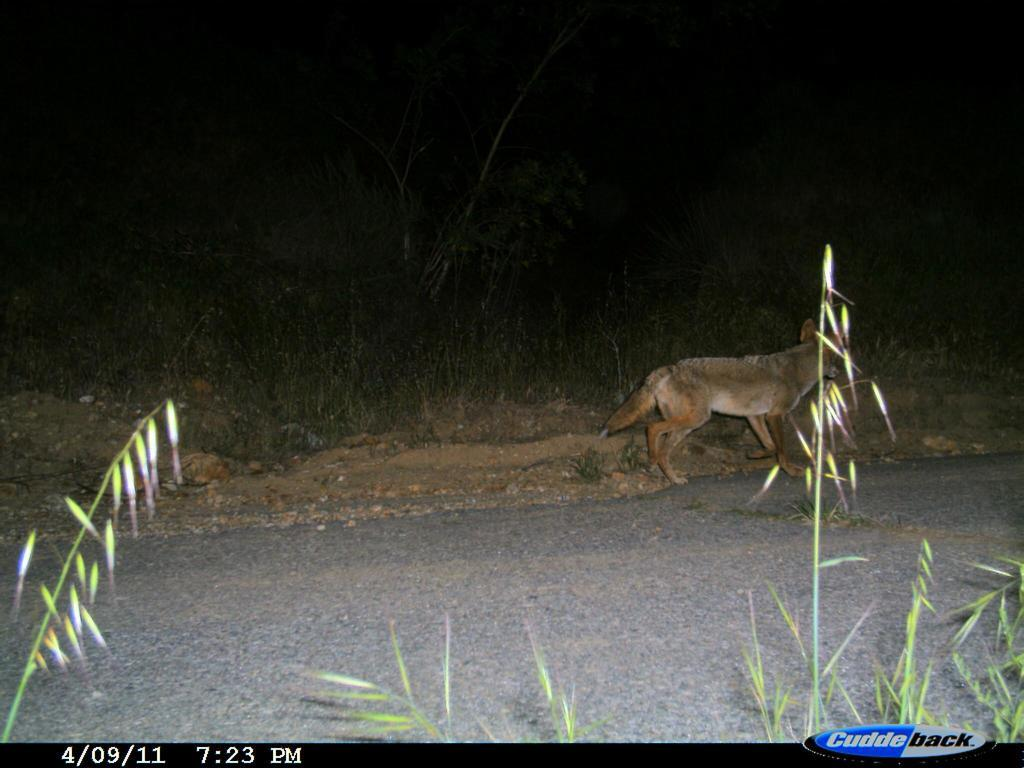coyote: (594, 317, 871, 488)
